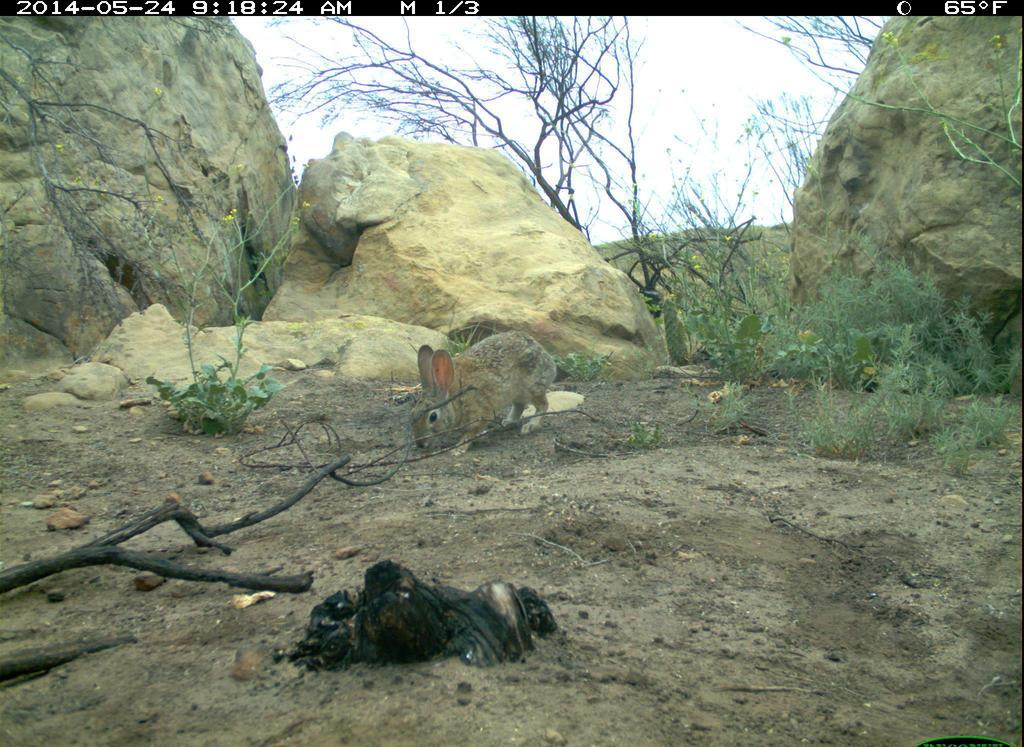rabbit: (404, 321, 564, 468)
